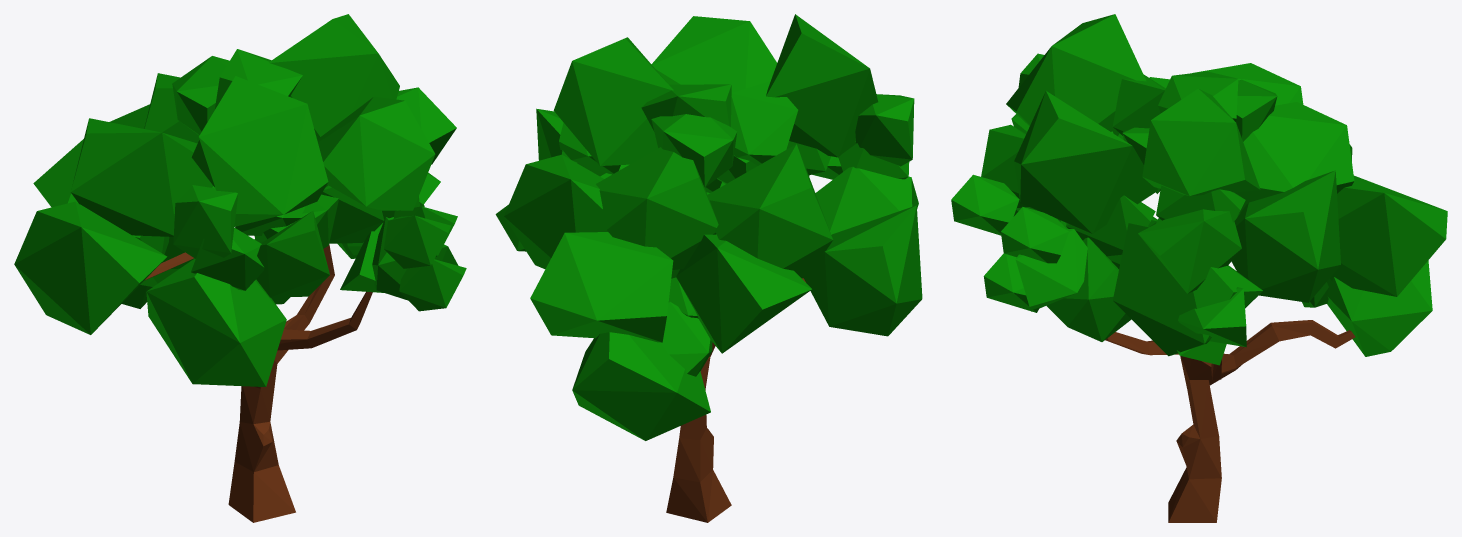
The model's file is tree4.fbx.
The picture shows the model from 3 angles, left to right: view 1: azimuth 30°, elevation 25°; view 2: azimuth 150°, elevation 25°; view 3: azimuth 270°, elevation 25°; orthographic projection. The views are drawn at different scales.
Parts seen in each view (by area): view 1: tree1, tree1.001; view 2: tree1, tree1.001; view 3: tree1, tree1.001.
Part boxes in pixels (x1,y1,x2,y2): tree1: (14, 14, 466, 386); tree1.001: (144, 244, 372, 522); tree1: (495, 14, 922, 440); tree1.001: (666, 278, 805, 522); tree1: (951, 14, 1447, 365); tree1.001: (1105, 320, 1355, 522).
Bounding box in the file's own units: 627 × 698 × 673.
